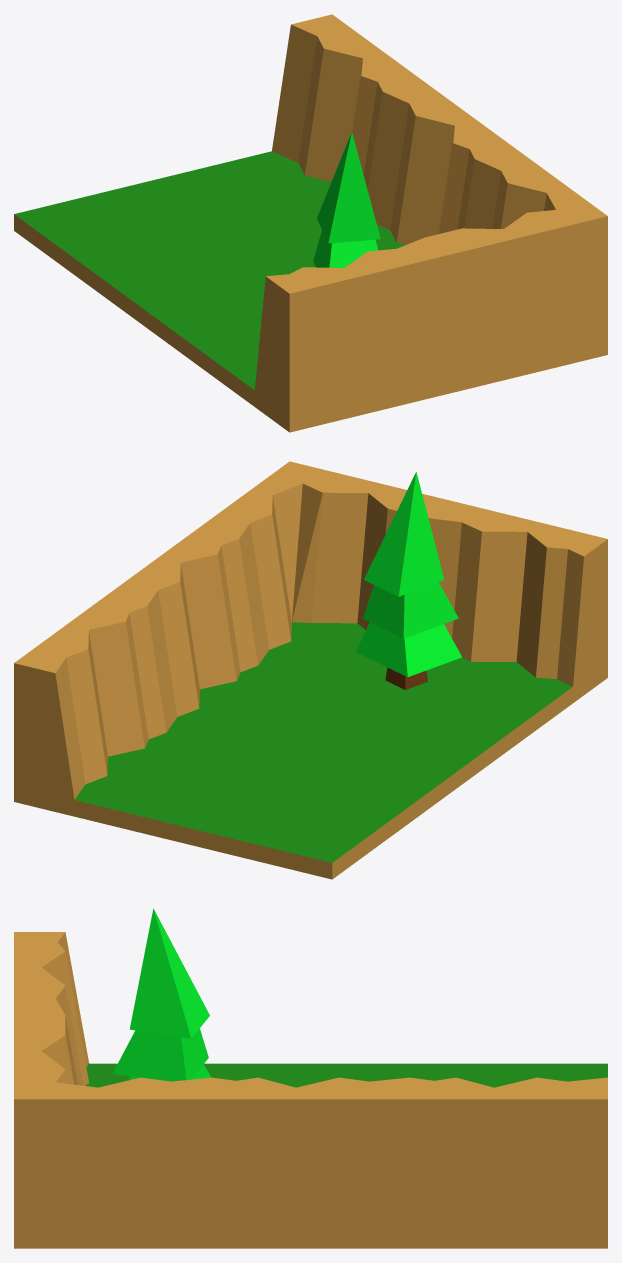
File: Corner.DAE
The picture shows the model from 3 angles, top to bottom: view 1: azimuth 30°, elevation 25°; view 2: azimuth 150°, elevation 25°; view 3: azimuth 270°, elevation 25°; orthographic projection. The views are drawn at different scales.
Visible parts, largest first — view 1: Corner_Cliff, Corner_Grass, Corner_Leaves; view 2: Corner_Cliff, Corner_Grass, Corner_Leaves, Corner_Stump; view 3: Corner_Cliff, Corner_Leaves, Corner_Grass.
Part boxes in pixels (x1,y1,x2,y2): Corner_Cliff: [14, 14, 607, 432]; Corner_Grass: [14, 151, 405, 389]; Corner_Leaves: [313, 132, 380, 267]; Corner_Cliff: [14, 461, 607, 879]; Corner_Grass: [75, 622, 572, 862]; Corner_Leaves: [356, 472, 461, 677]; Corner_Stump: [385, 667, 427, 689]; Corner_Cliff: [14, 932, 607, 1248]; Corner_Leaves: [112, 908, 211, 1081]; Corner_Grass: [85, 1063, 607, 1087].
Size of the model in its own units: 6 by 4.01 by 9.
